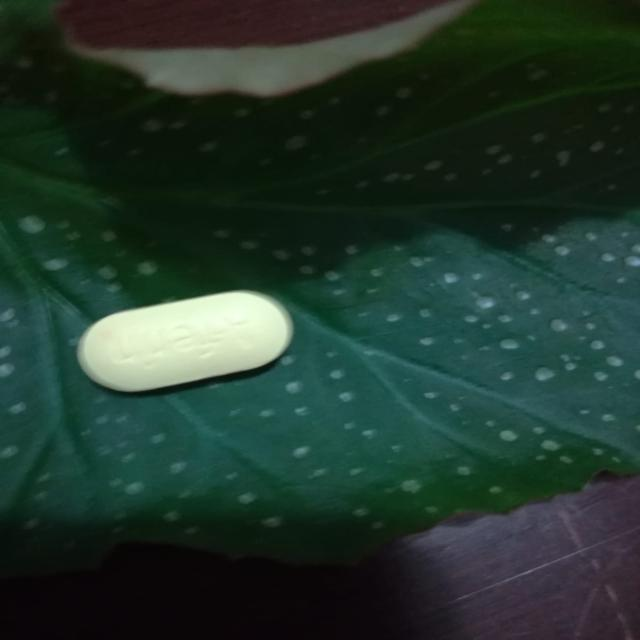pills: (68, 280, 302, 401)
